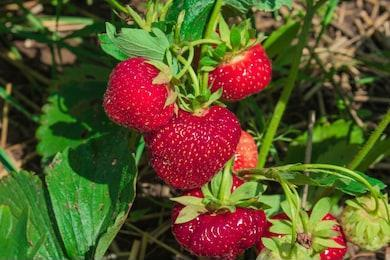Fresa: (138, 97, 245, 197), (164, 166, 265, 260), (185, 22, 281, 106), (99, 52, 180, 138), (253, 206, 349, 260)
